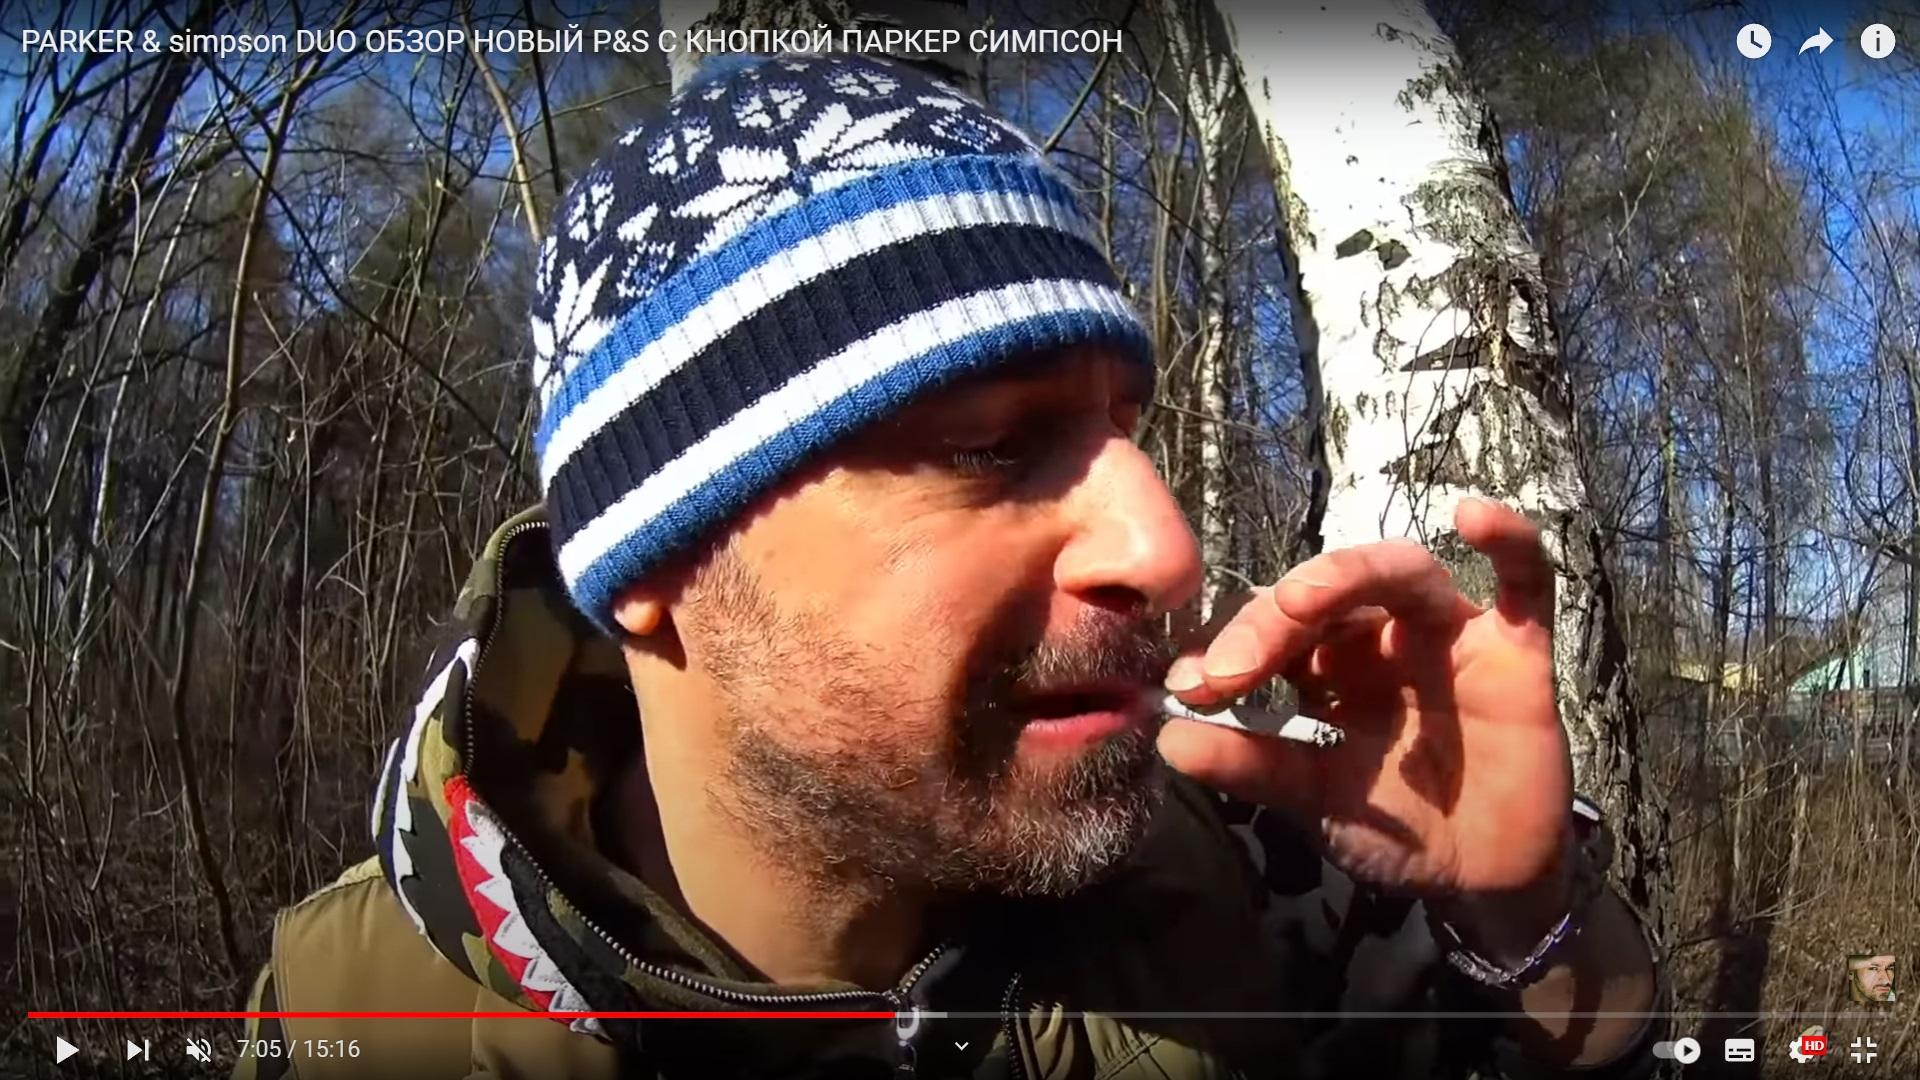cigarette: (1120, 686, 1349, 746)
